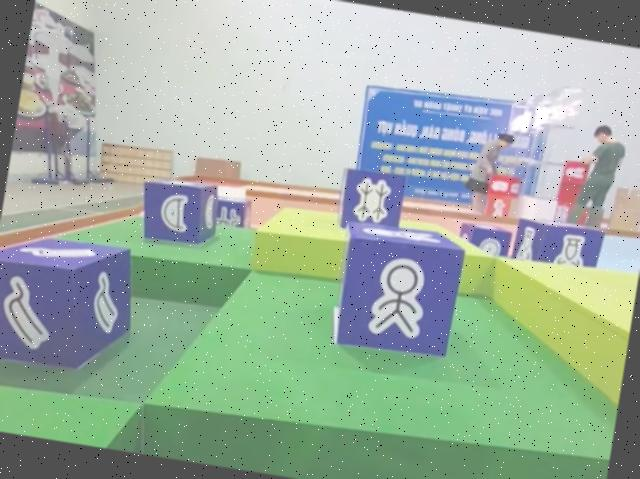R2 Real Blue: (0, 227, 141, 379), (326, 217, 466, 362), (133, 173, 222, 252), (511, 214, 605, 271), (334, 166, 406, 239), (456, 220, 512, 258), (211, 193, 253, 229)
